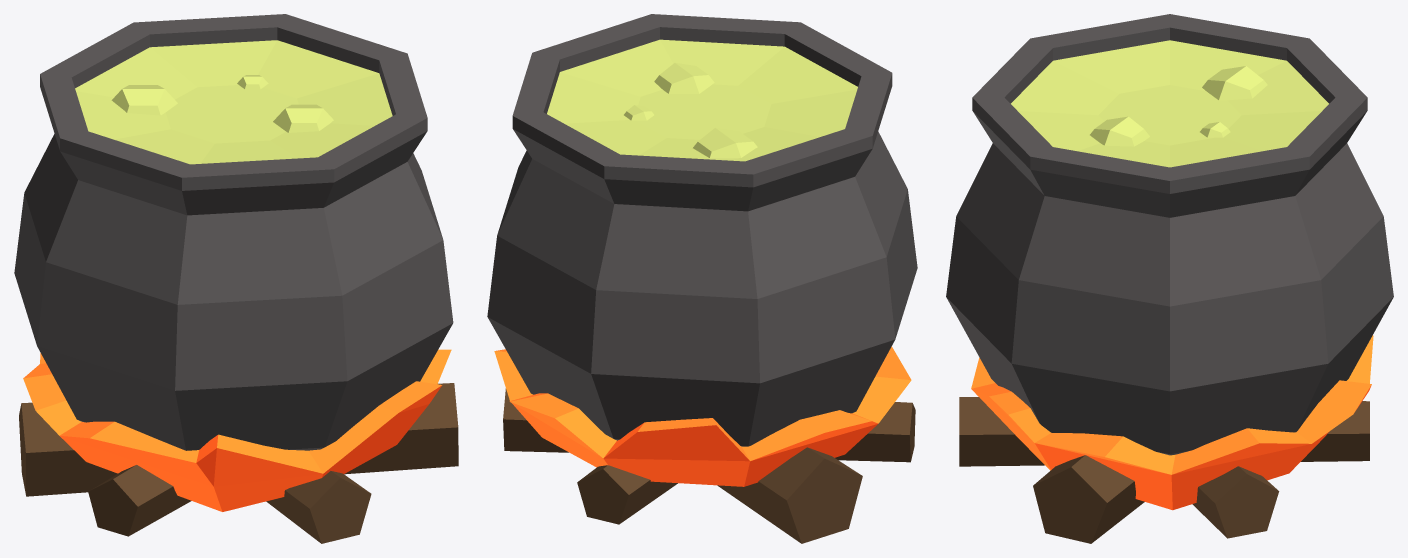
The model's file is fantasy_kettle.fbx.
The picture shows the model from 3 angles, left to right: view 1: azimuth 30°, elevation 25°; view 2: azimuth 150°, elevation 25°; view 3: azimuth 270°, elevation 25°; orthographic projection. The views are drawn at different scales.
Parts seen in each view (by area): view 1: fantasy_kettle; view 2: fantasy_kettle; view 3: fantasy_kettle.
Part boxes in pixels (x1=…): fantasy_kettle: x1=14, y1=14, x2=458, y2=543; fantasy_kettle: x1=487, y1=14, x2=917, y2=543; fantasy_kettle: x1=946, y1=14, x2=1393, y2=543.
Size of the model in its own units: 200 by 185 by 200.
